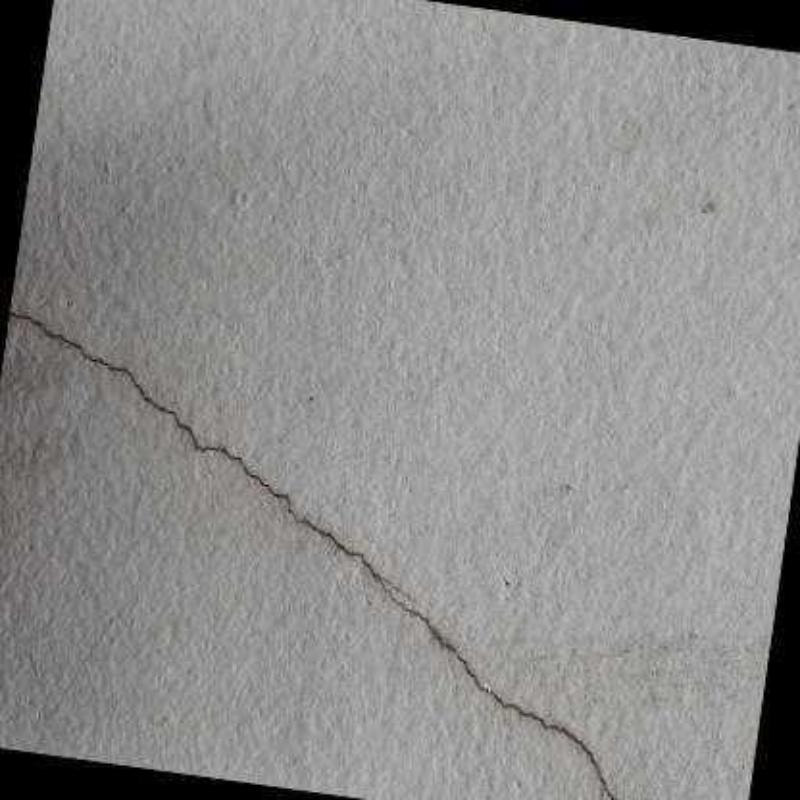pothole: (8, 310, 619, 800)
